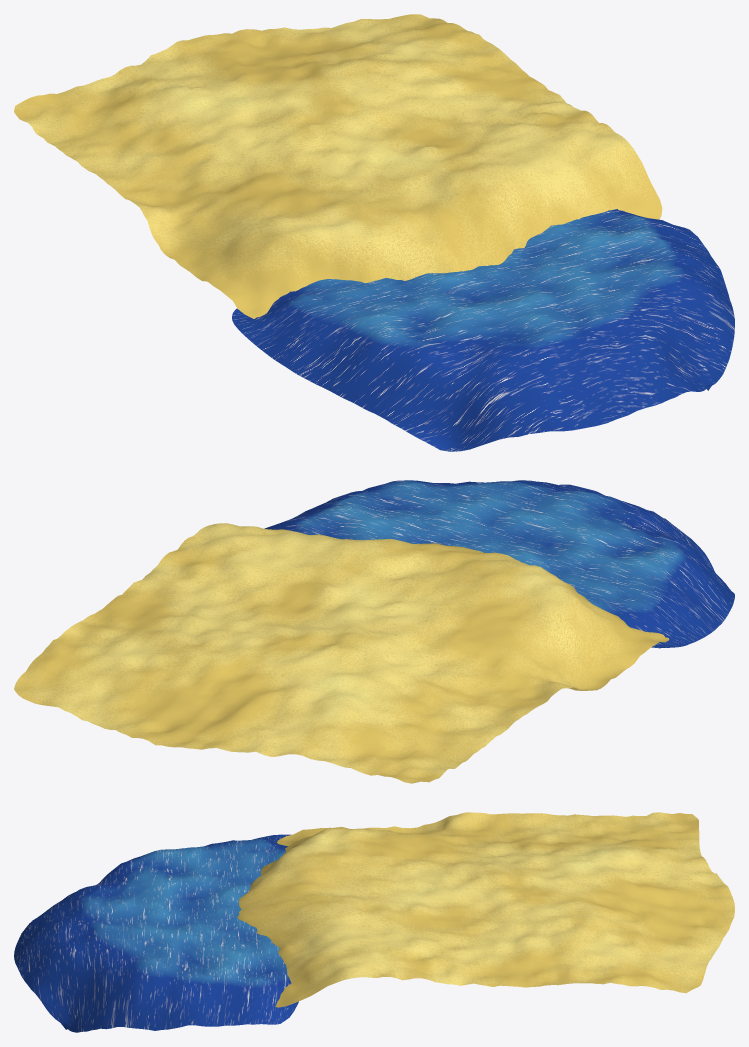
The model's file is Beach1.glb.
3 views of the same model, one above another, from view 1: azimuth 30°, elevation 25°; view 2: azimuth 150°, elevation 25°; view 3: azimuth 270°, elevation 25° (orthographic). The views are drawn at different scales.
Visible parts, largest first — view 1: Grid, Circle; view 2: Grid, Circle; view 3: Grid, Circle.
Part boxes in pixels (box(x1,y1,x2,y2)): Grid: box(14, 14, 662, 318); Circle: box(232, 209, 734, 451); Grid: box(14, 523, 669, 783); Circle: box(265, 480, 734, 648); Grid: box(237, 812, 734, 1007); Circle: box(14, 834, 298, 1032).
Bounding box in the file's own units: 10.53 × 2.59 × 17.35.
Materials: 2 (2 with a texture image).
